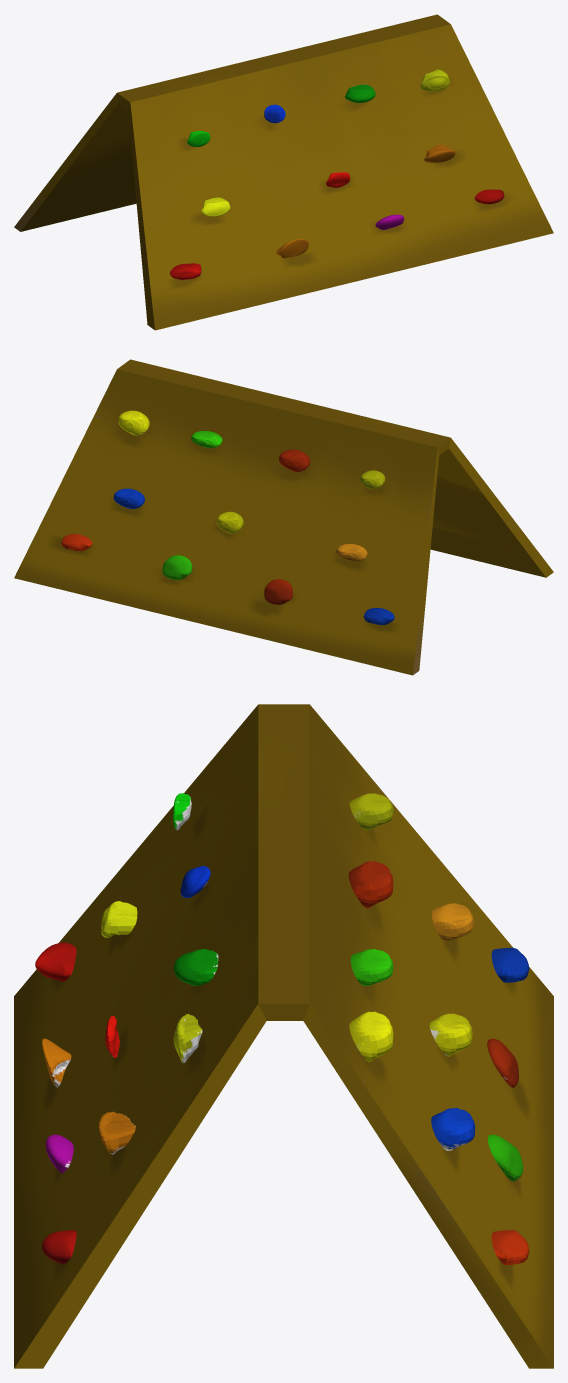
Rendered from Escalada_prefab.fbx.
3 renders of one model, top to bottom at view 1: azimuth 30°, elevation 25°; view 2: azimuth 150°, elevation 25°; view 3: azimuth 270°, elevation 25°, orthographic. The views are drawn at different scales.
Parts seen in each view (by area): view 1: Cube, Sphere.011, Sphere.015, Sphere.012, Sphere.021, Sphere.020, Sphere.017; view 2: Cube, Sphere.009, Sphere, Sphere.008, Sphere.002, Sphere.006, Sphere.005, Sphere.004, Sphere.001, Sphere.007, Sphere.010; view 3: Cube, Sphere, Sphere.002, Sphere.006, Sphere.005, Sphere.012, Sphere.004, Sphere.001, Sphere.003, Sphere.021, Sphere.017, Sphere.010 (+8 smaller).
Part boxes in pixels (box(x1,y1,x2,y2)): Cube: box(14, 14, 553, 330); Sphere.011: box(420, 69, 449, 91); Sphere.015: box(201, 197, 230, 216); Sphere.012: box(345, 84, 375, 102); Sphere.021: box(170, 263, 201, 279); Sphere.020: box(276, 238, 308, 258); Sphere.017: box(424, 144, 455, 163); Cube: box(14, 359, 553, 675); Sphere.009: box(264, 579, 292, 604); Sphere: box(118, 410, 149, 435); Sphere.008: box(162, 555, 192, 580); Sphere.002: box(279, 449, 310, 471); Sphere.006: box(113, 488, 144, 508); Sphere.005: box(216, 511, 243, 533); Sphere.004: box(336, 544, 367, 561); Sphere.001: box(191, 430, 222, 448); Sphere.007: box(61, 534, 92, 551); Sphere.010: box(363, 608, 394, 625); Cube: box(14, 704, 553, 1368); Sphere: box(349, 1011, 393, 1062); Sphere.002: box(348, 861, 393, 908); Sphere.006: box(431, 1108, 475, 1150); Sphere.005: box(429, 1013, 472, 1056); Sphere.012: box(173, 949, 218, 985); Sphere.004: box(432, 903, 473, 941); Sphere.001: box(350, 949, 393, 985); Sphere.003: box(349, 793, 393, 830); Sphere.021: box(35, 942, 76, 981); Sphere.017: box(98, 1111, 135, 1154); Sphere.010: box(491, 947, 529, 982).
Size of the model in its own units: 975 by 401 by 598.
Materials: 23 (23 with a texture image).
